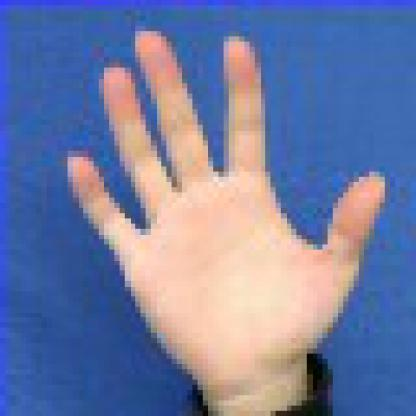five: (57, 10, 406, 411)
